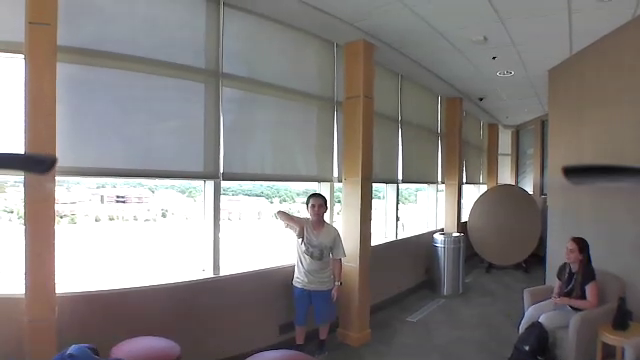down: (294, 220, 310, 244)
